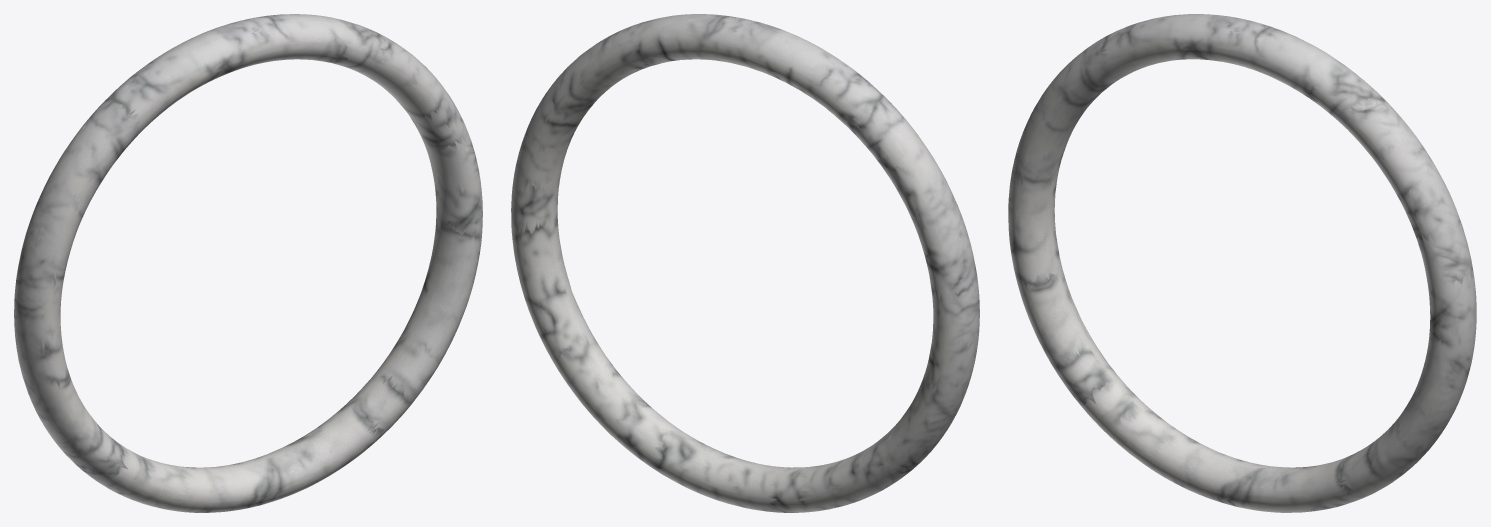
File: ring_marble.glb
The picture shows the model from 3 angles, left to right: view 1: azimuth 30°, elevation 25°; view 2: azimuth 150°, elevation 25°; view 3: azimuth 330°, elevation 25°; orthographic projection.
Parts seen in each view (by area): view 1: Mesh_0; view 2: Mesh_0; view 3: Mesh_0.
Boxes of the visible parts, <box> form: Mesh_0: <box>14,14,482,512</box>; Mesh_0: <box>511,14,979,512</box>; Mesh_0: <box>1008,14,1476,512</box>.
Size of the model in its own units: 2.18 by 2.18 by 0.2247.
1 material, 1 textured.
